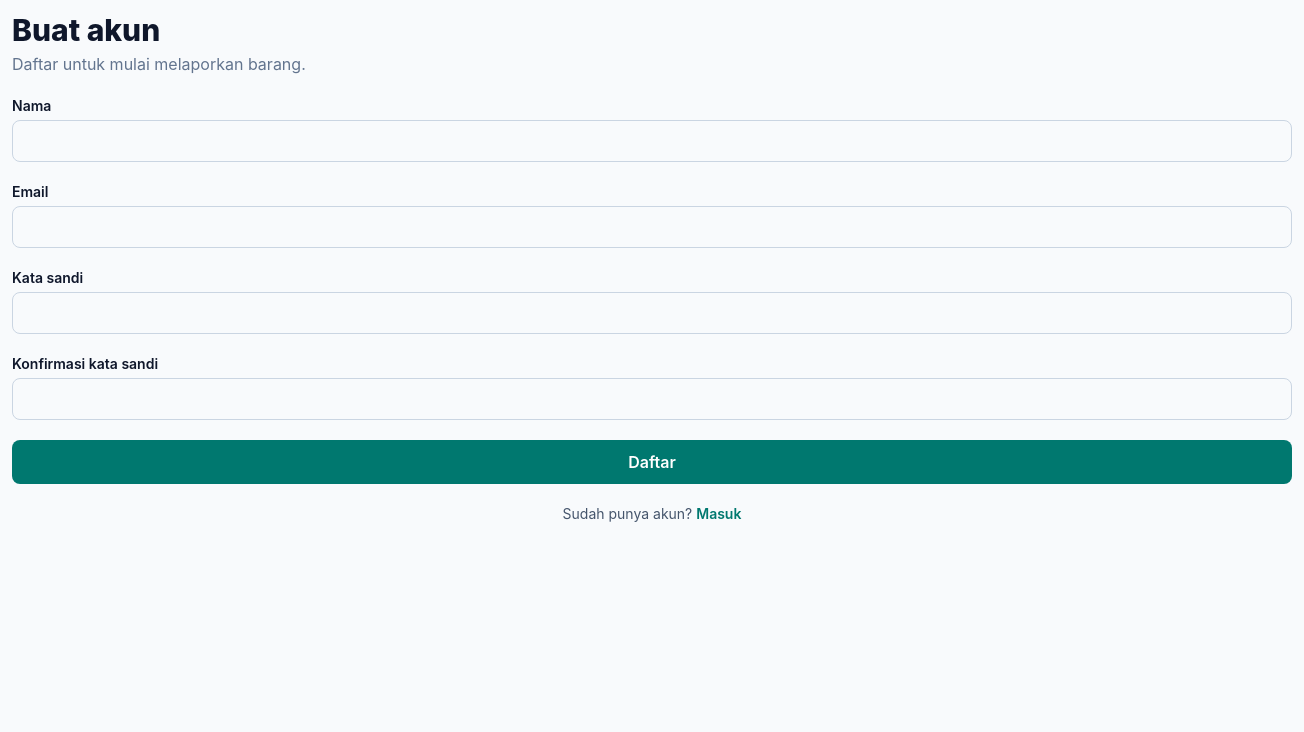
Test: RegisterPage › menolak konfirmasi kata sandi yang berbeda
Type "Rouli" into the field labelled "Nama". click: (652, 141)
box: [12, 120, 1292, 162]
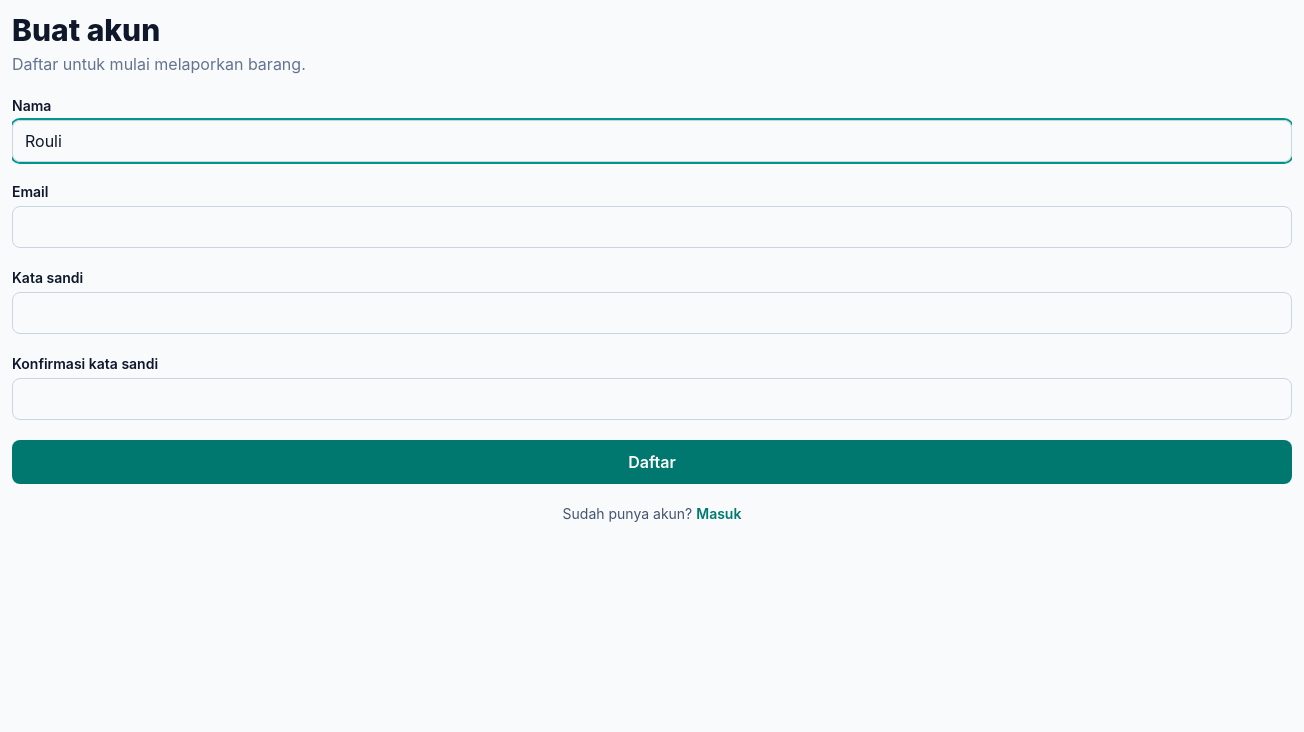
Type "a@b.co" into the field labelled "Email". click: (652, 227)
box: [12, 206, 1292, 248]
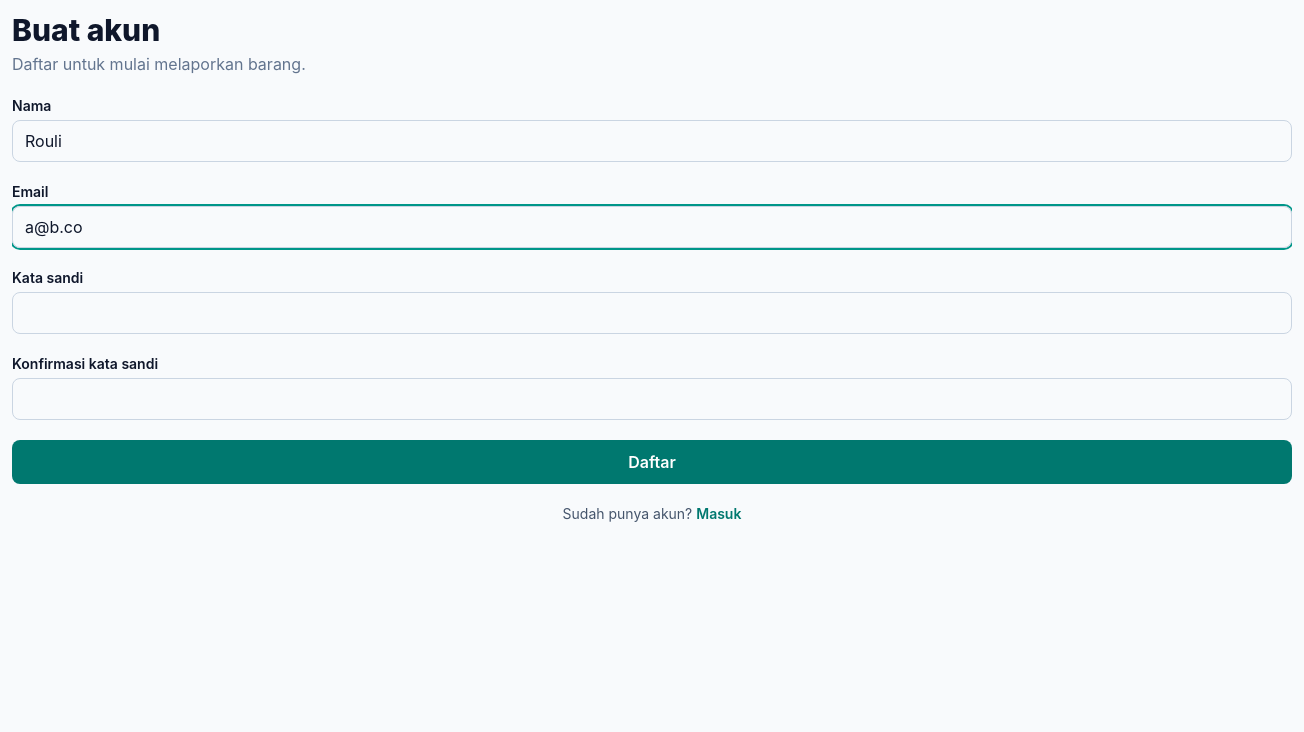
Type "123456" into the password field labelled "Kata sandi". click: (652, 313)
box: [12, 292, 1292, 334]
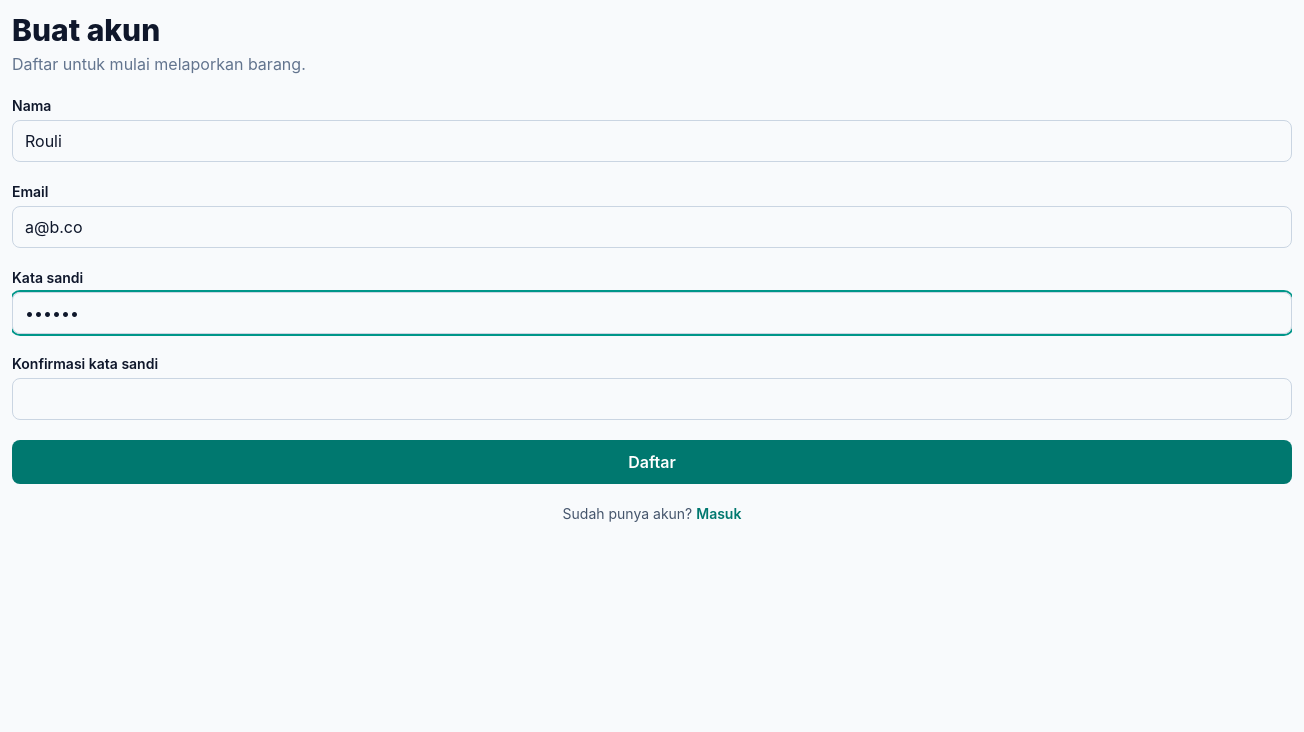
Type "654321" into the password field labelled "Konfirmasi kata sandi". click: (652, 399)
box: [12, 378, 1292, 420]
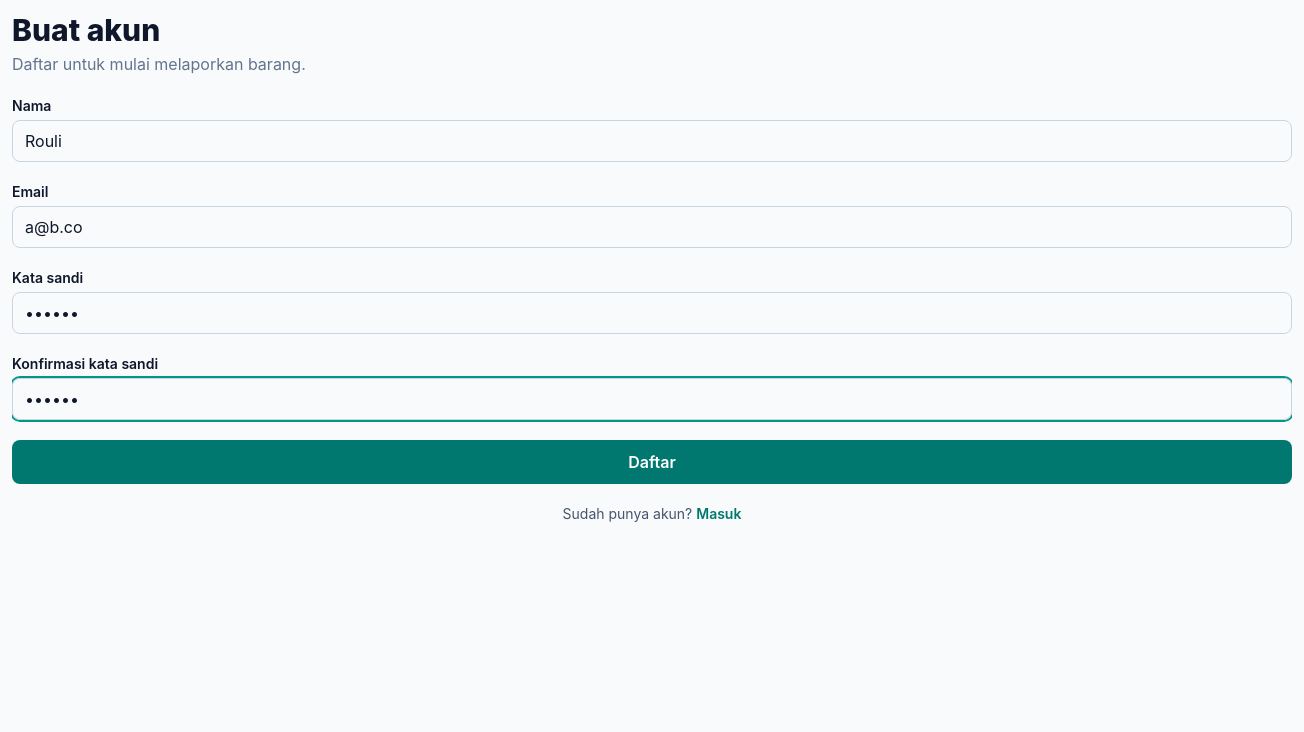
Click the button "Daftar". click: (652, 462)
box: [12, 440, 1292, 484]
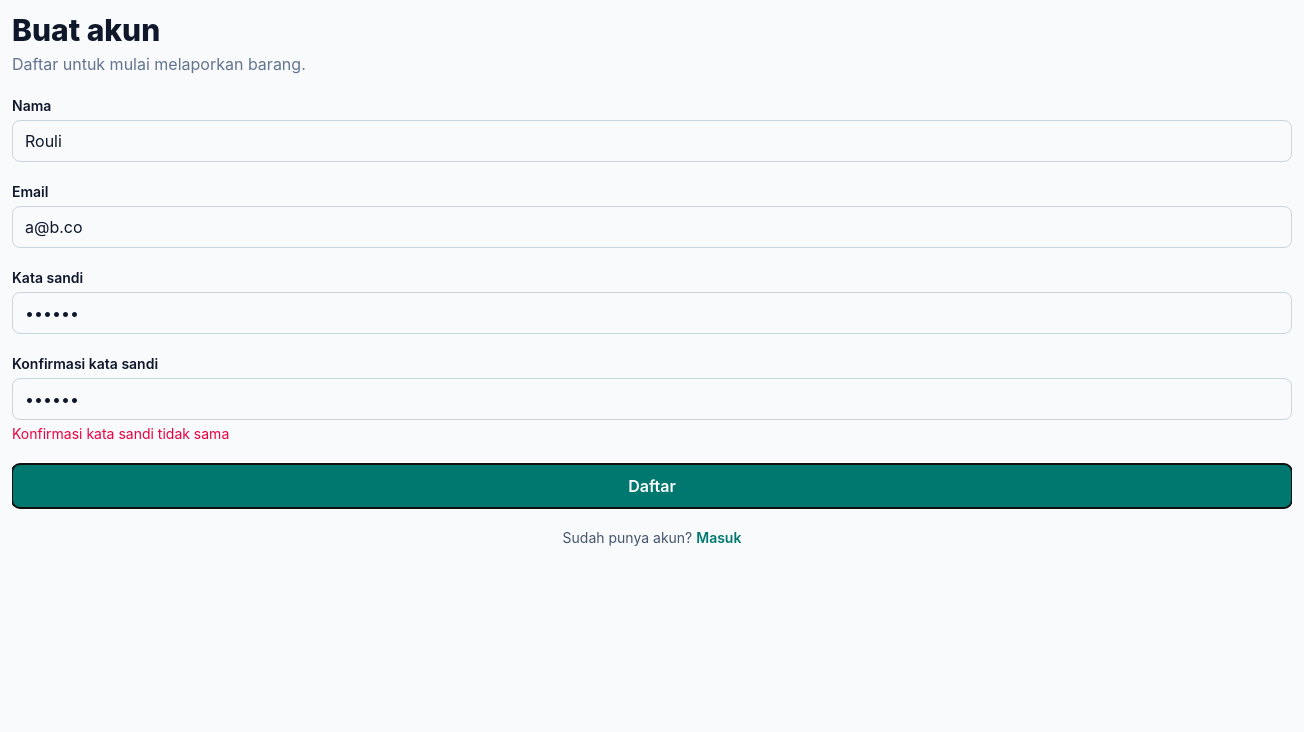
expect the text "Konfirmasi kata sandi tidak sama" is shown: met, box [12, 425, 229, 442]
